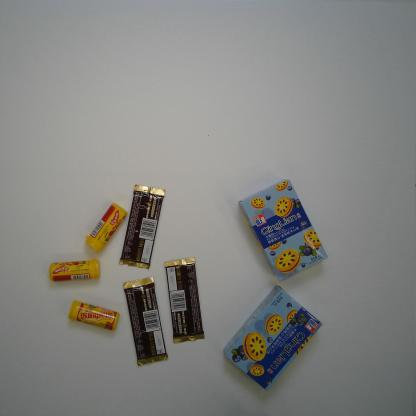Candy: (84, 203, 127, 254), (68, 300, 120, 331), (49, 257, 101, 282)
Chocolate: (122, 276, 169, 366), (119, 184, 166, 270), (164, 257, 205, 344)
Dessert: (222, 284, 323, 392), (238, 178, 328, 282)
